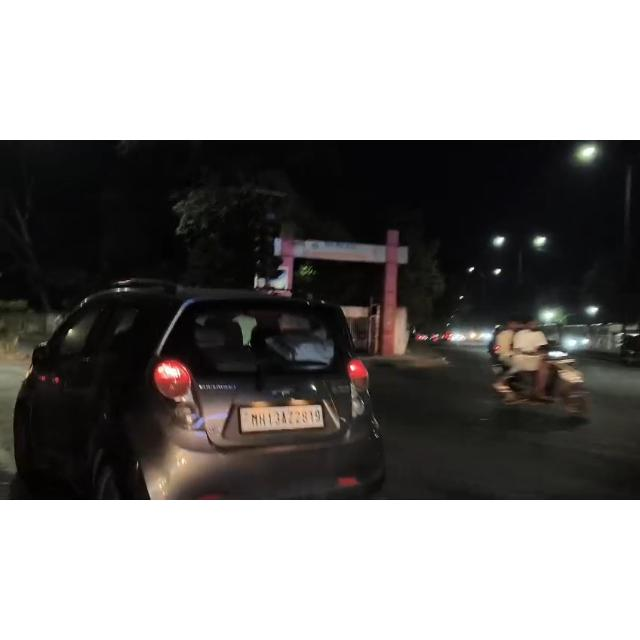car: (6, 269, 404, 500)
